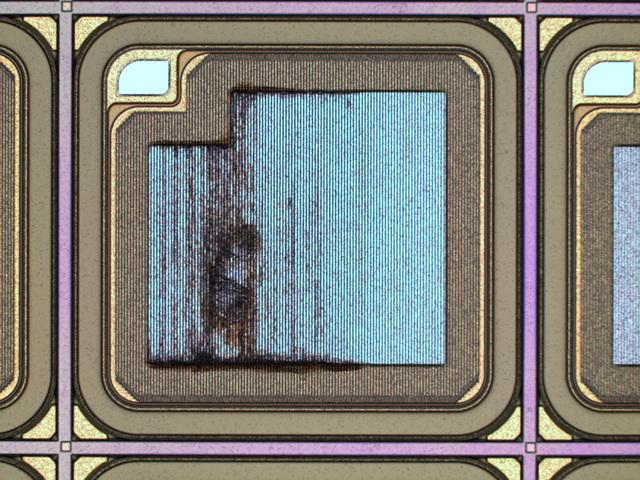SEZ BURNT: (145, 79, 385, 373)
